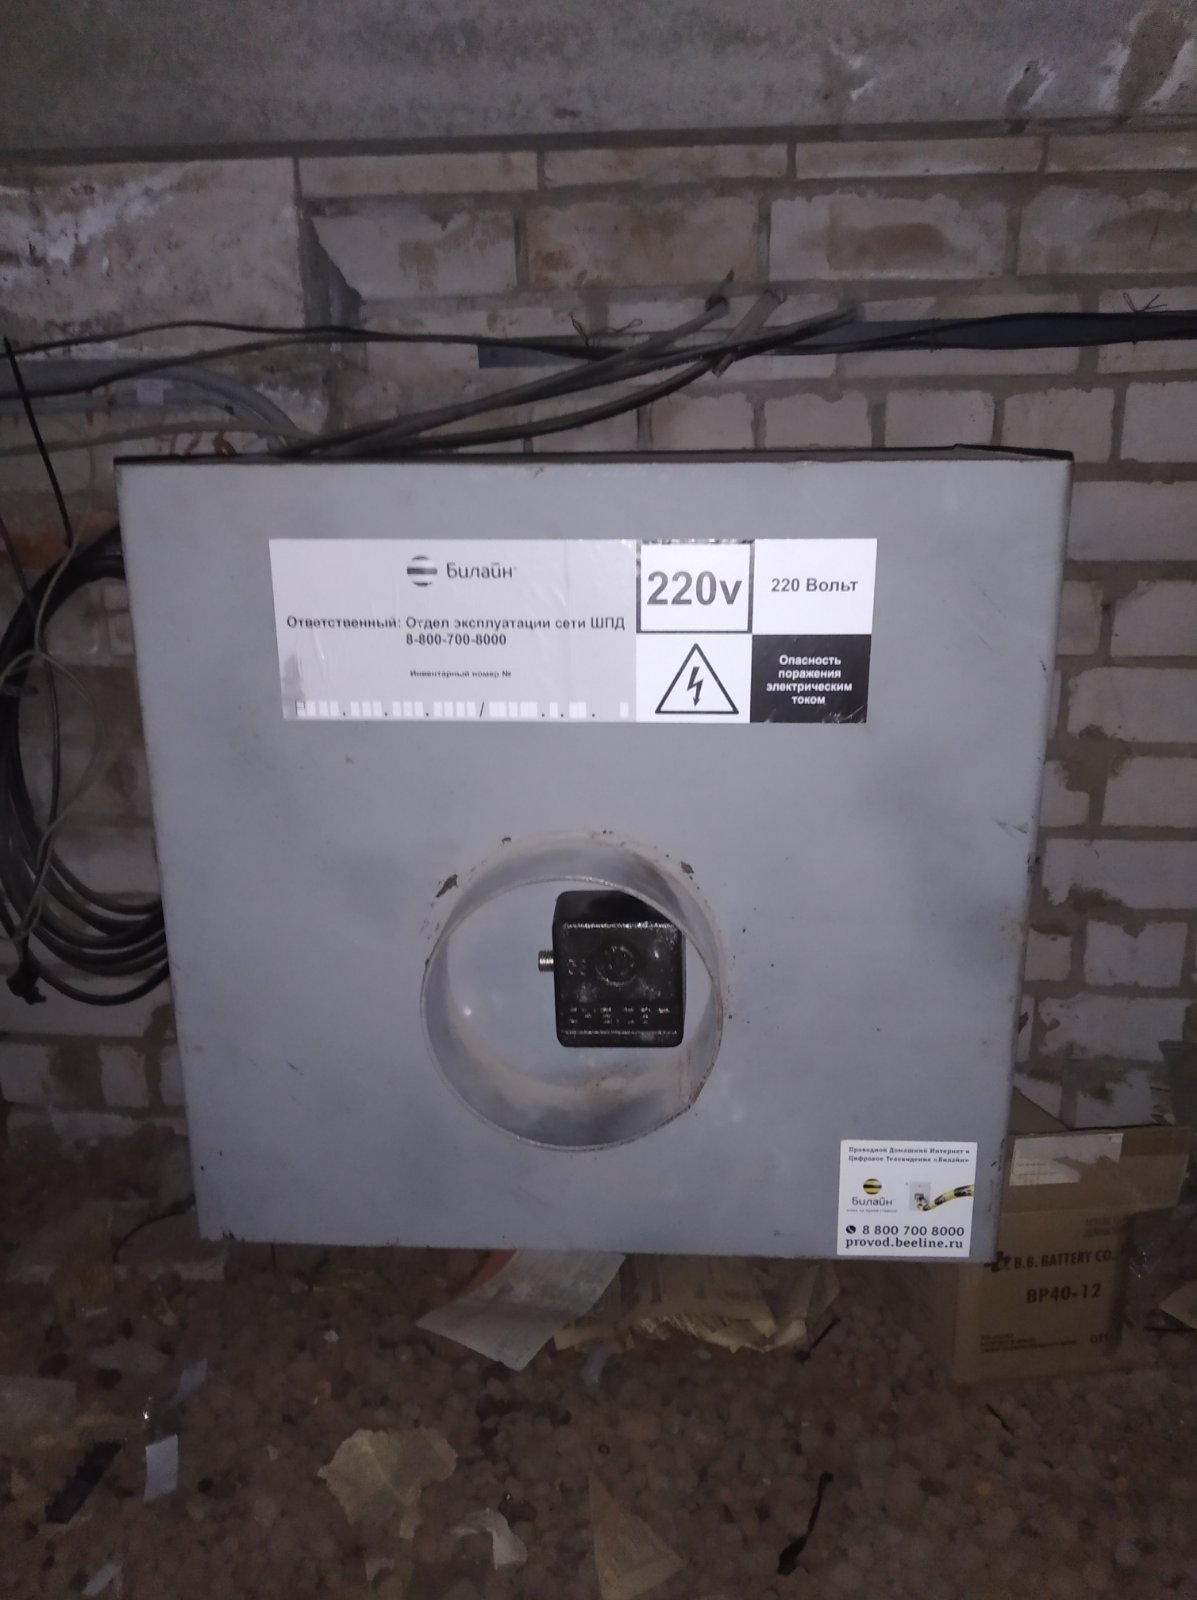shta-9: (97, 424, 1094, 1285)
